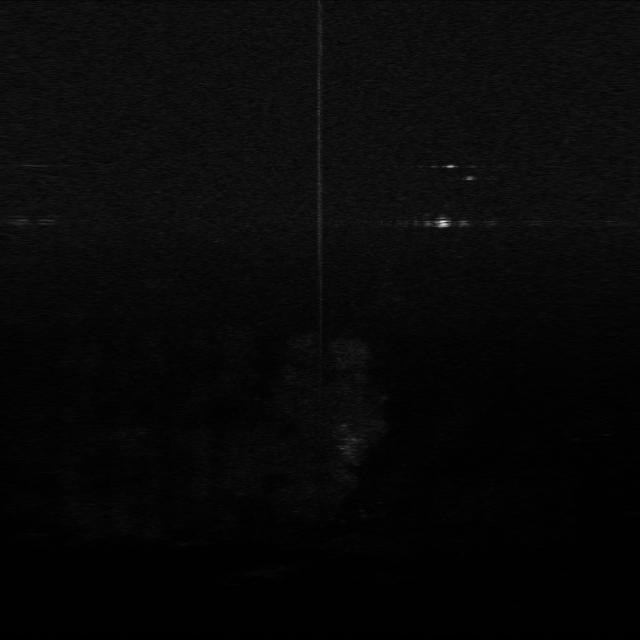rov: (428, 215, 456, 233)
